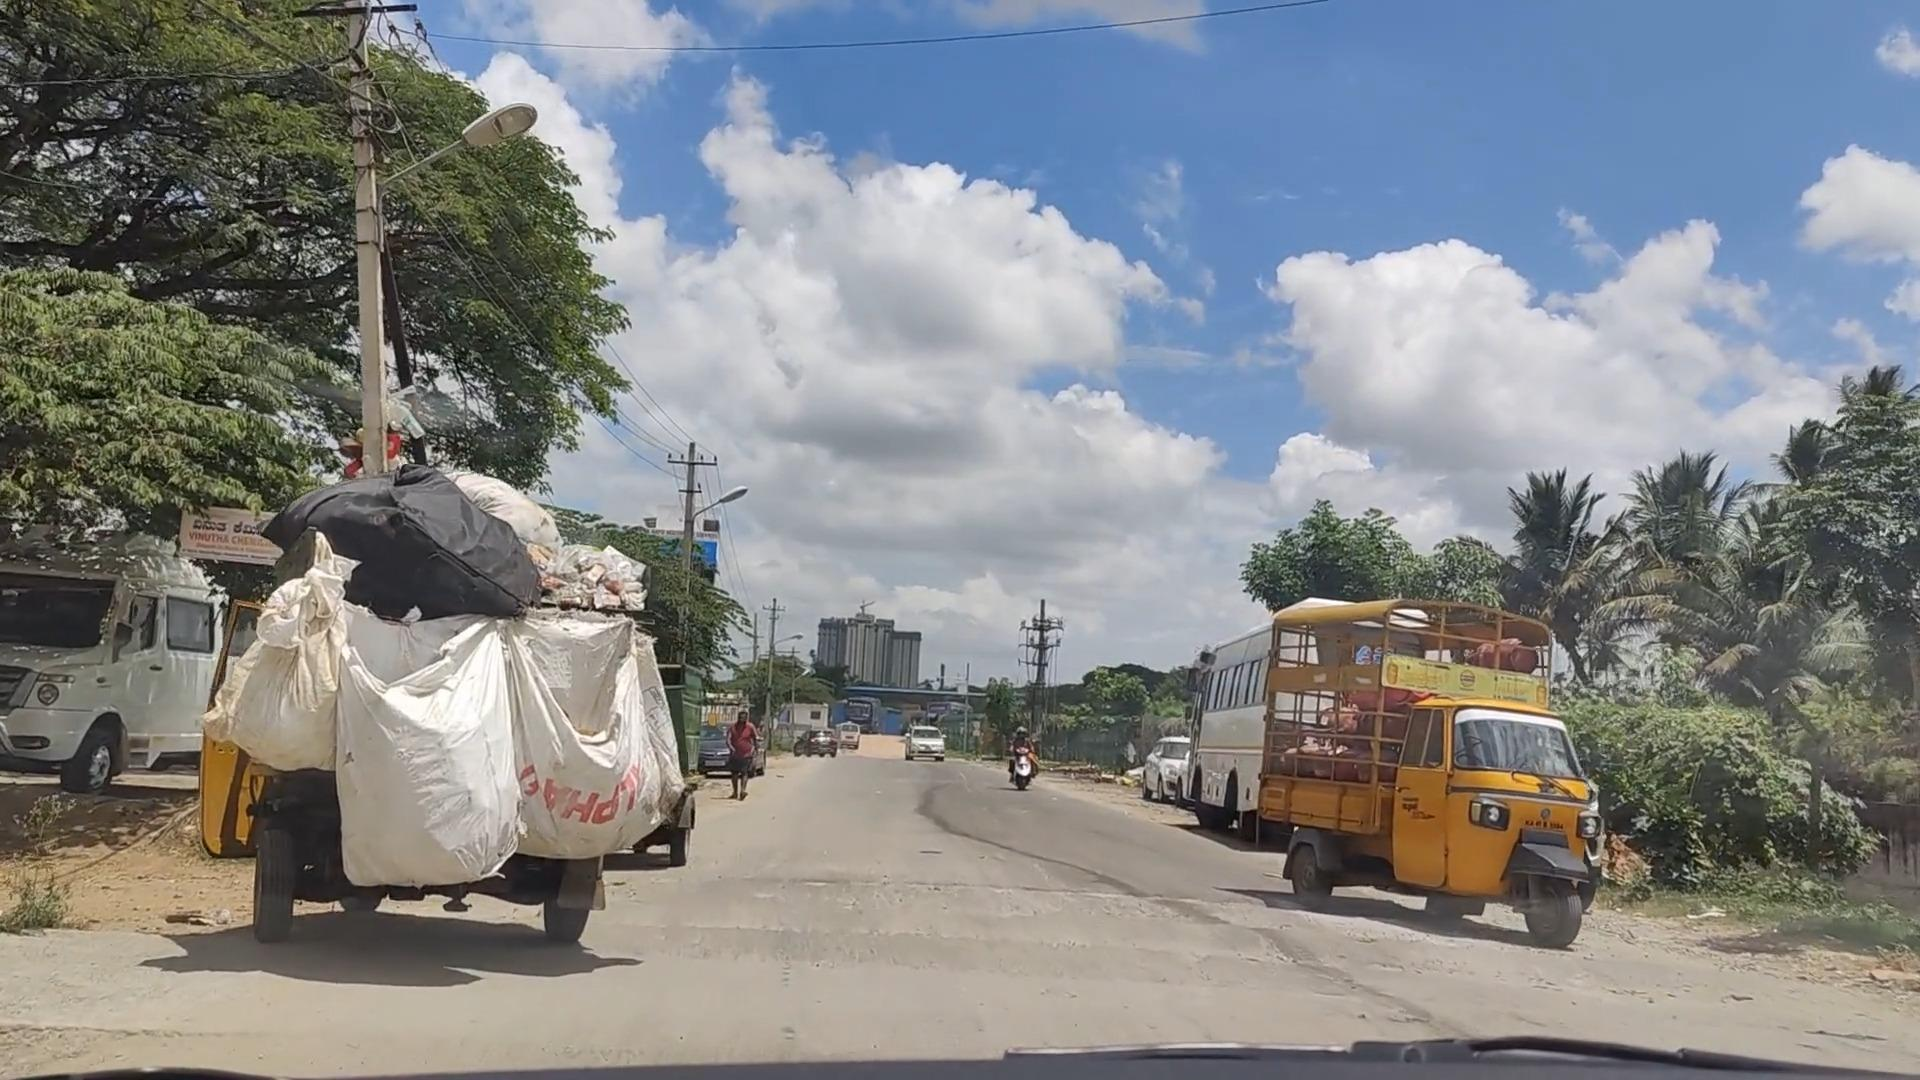HMV: (237, 473, 687, 986), (1253, 603, 1643, 960)
RoadDamages: (741, 861, 1189, 959)
